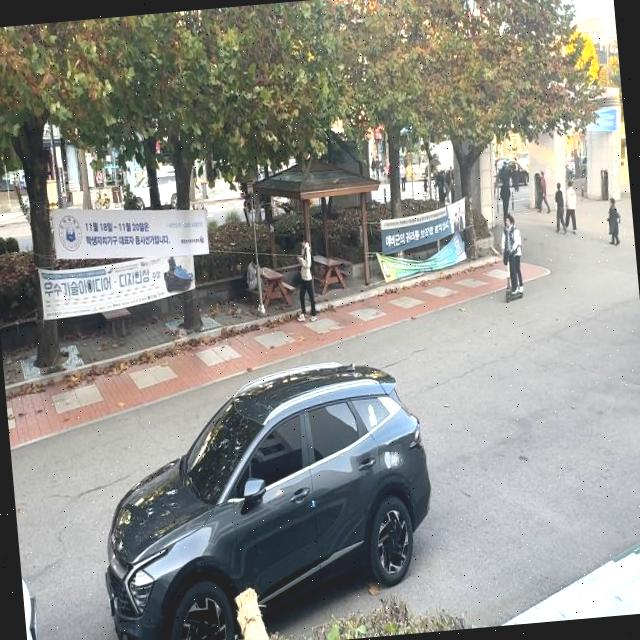bare_head: (502, 213, 513, 230), (510, 216, 521, 230)
human: (502, 216, 519, 294), (508, 217, 525, 294)
kickboard: (500, 283, 530, 305)
